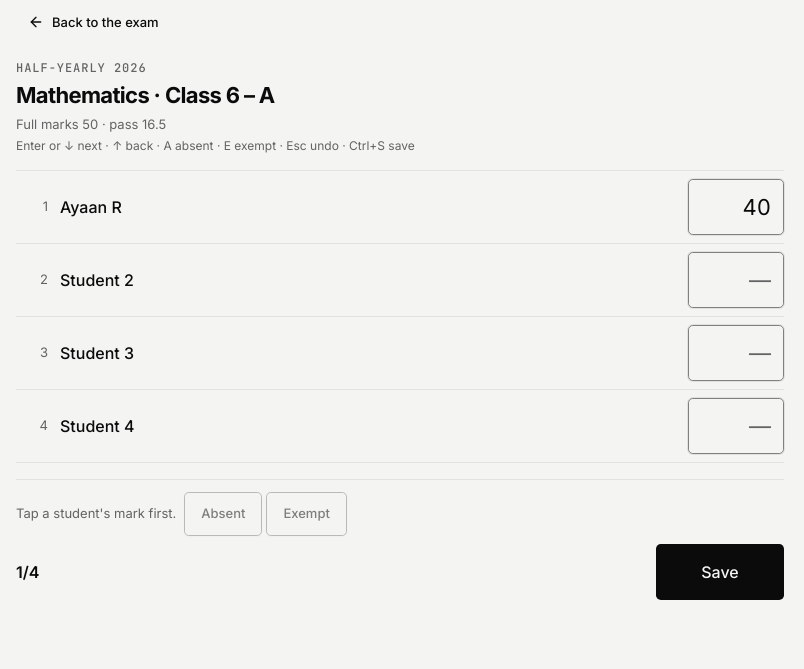
Test: MarksEntry › saves valid rows, keeps an out-of-range row back with an inline error
In the field named "Student 2": (736, 280) 688,252 -> 784,308, type "45.5"
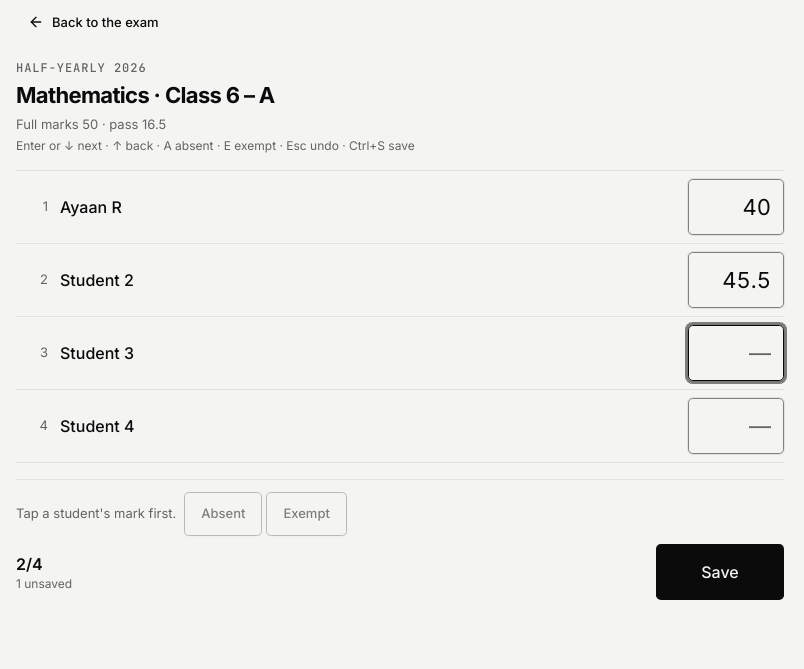
Press a in the field named "Student 3", box 688,324 -> 784,380
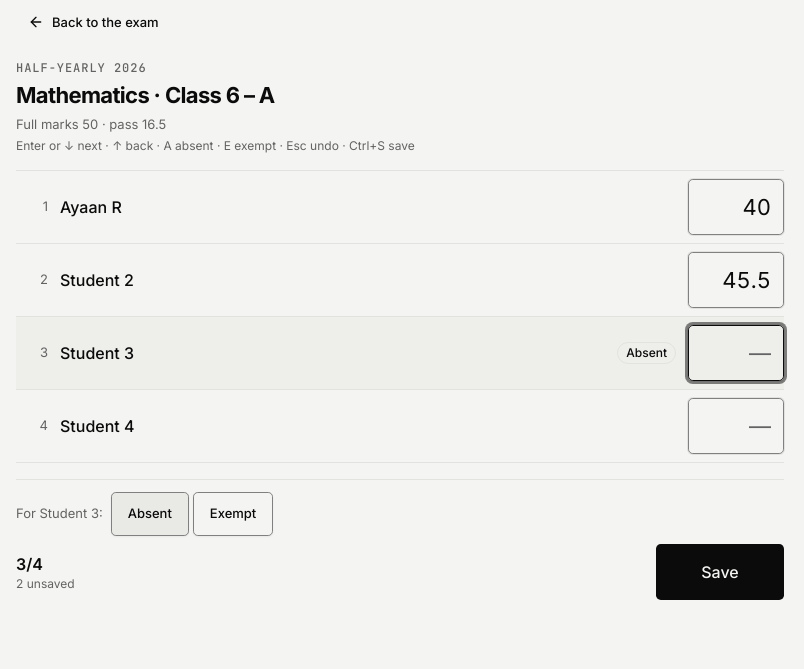
In the field named "Student 4": (736, 426) 688,398 -> 784,454, type "60"
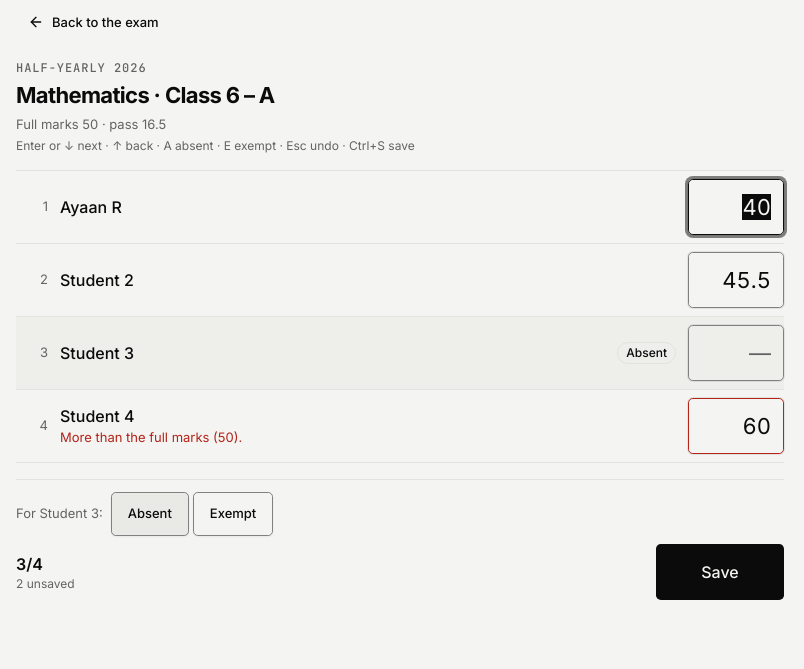
Now the text "More than the full marks (50)." is shown, box 60,429 -> 242,445
Now the text "Absent" is shown, box 617,342 -> 676,364
Now the text "3/4" is shown, box 16,554 -> 43,574
Click the button "Save": (720, 572) 656,544 -> 784,600
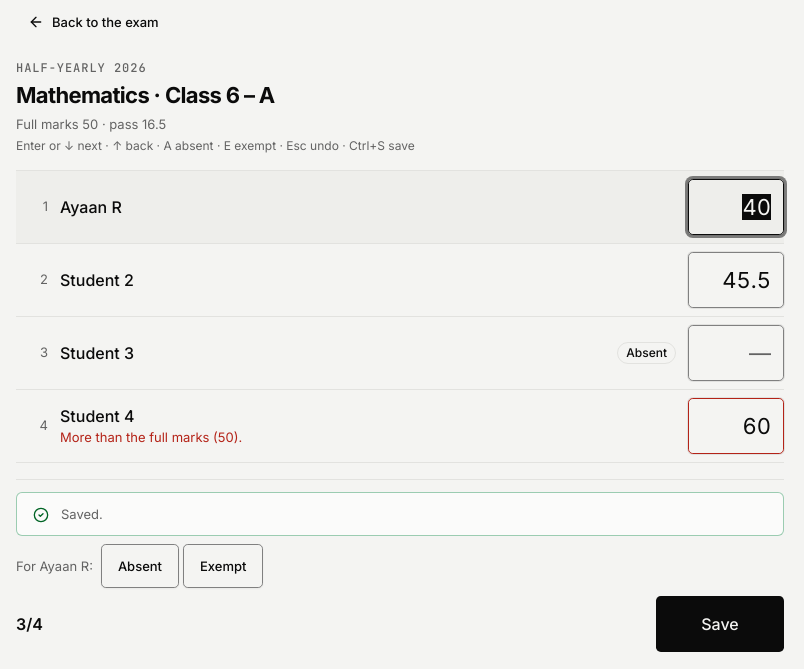
Now the text "Saved." is shown, box 61,506 -> 103,522
